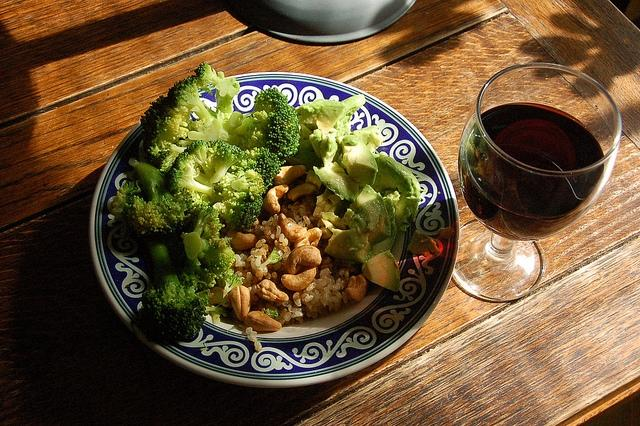avocado: (372, 156, 428, 231), (341, 184, 391, 245), (336, 135, 378, 188), (313, 162, 360, 203), (324, 228, 374, 264), (369, 196, 397, 259), (295, 100, 345, 134), (362, 249, 400, 292), (332, 94, 367, 136), (350, 125, 384, 154), (320, 132, 338, 167), (316, 188, 341, 212)
broccoli: (187, 88, 301, 164), (134, 236, 210, 343), (121, 158, 196, 236), (180, 200, 238, 290), (193, 170, 266, 230), (140, 95, 205, 158), (163, 151, 224, 203), (227, 147, 282, 200), (192, 61, 240, 119), (168, 75, 215, 128), (204, 139, 248, 184), (183, 140, 216, 178), (150, 144, 187, 176)
